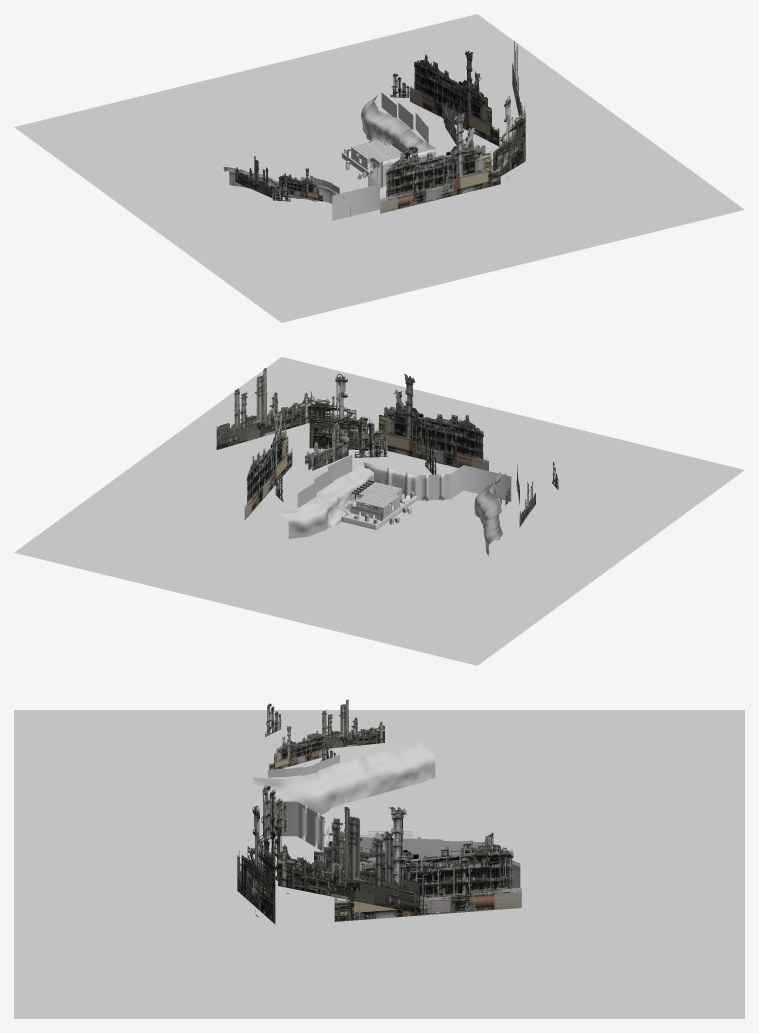
Rendered from Factory_00 export.fbx.
The picture shows the model from 3 angles, top to bottom: view 1: azimuth 30°, elevation 25°; view 2: azimuth 150°, elevation 25°; view 3: azimuth 270°, elevation 25°; orthographic projection. The views are drawn at different scales.
Visible parts, largest first — view 1: WATER PLANE, Factory Illusion, Hillside, Ground, VEGI Row of Trees, Glass, Metal Grid; view 2: WATER PLANE, Factory Illusion, Hillside, Ground, Glass, VEGI Row of Trees, Metal Grid; view 3: WATER PLANE, Factory Illusion, Hillside, Ground, VEGI Row of Trees.
Boxes of the visible parts, left/top/right/bottom form: WATER PLANE: left=14, top=14, right=744, bottom=322; Factory Illusion: left=235, top=41, right=525, bottom=213; Hillside: left=223, top=95, right=435, bottom=216; Ground: left=332, top=148, right=435, bottom=220; VEGI Row of Trees: left=297, top=92, right=428, bottom=193; Glass: left=351, top=141, right=404, bottom=169; Metal Grid: left=351, top=140, right=404, bottom=170; WATER PLANE: left=14, top=357, right=744, bottom=665; Factory Illusion: left=216, top=368, right=558, bottom=526; Hillside: left=277, top=462, right=506, bottom=556; Ground: left=341, top=462, right=511, bottom=530; Glass: left=357, top=482, right=401, bottom=519; VEGI Row of Trees: left=297, top=455, right=501, bottom=507; Metal Grid: left=356, top=482, right=402, bottom=520; WATER PLANE: left=14, top=710, right=744, bottom=1018; Factory Illusion: left=237, top=699, right=521, bottom=923; Hillside: left=253, top=739, right=520, bottom=888; Ground: left=264, top=801, right=329, bottom=851; VEGI Row of Trees: left=268, top=754, right=484, bottom=857.
Bounding box in the file's own units: 332 × 77.61 × 332.
